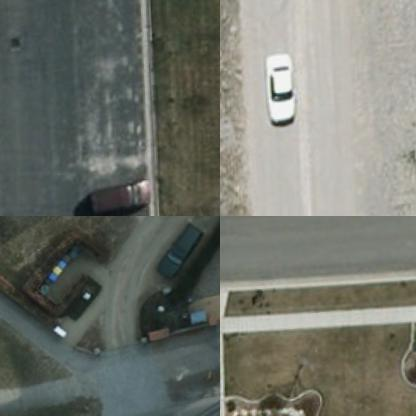car: (261, 56, 301, 138), (158, 233, 206, 286), (88, 189, 157, 215)
